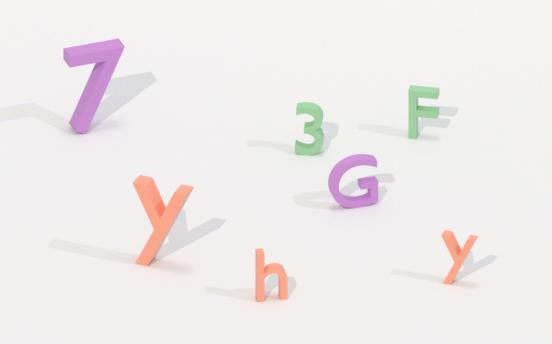3: (293, 99, 327, 159)
7: (62, 36, 127, 137)
F: (405, 81, 442, 142)
G-hoa: (326, 146, 383, 210)
Y: (128, 172, 196, 273), (438, 227, 480, 288)
h: (252, 244, 291, 303)
